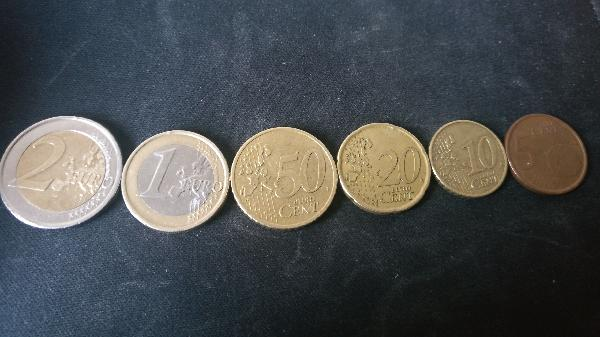Fifty Cent: (231, 124, 341, 233)
Five Cent: (503, 111, 589, 196)
One Euro: (122, 130, 231, 240)
Ten Cent: (427, 120, 508, 200)
Twenty Cent: (333, 122, 431, 219)
Two Euro: (1, 116, 121, 226)
